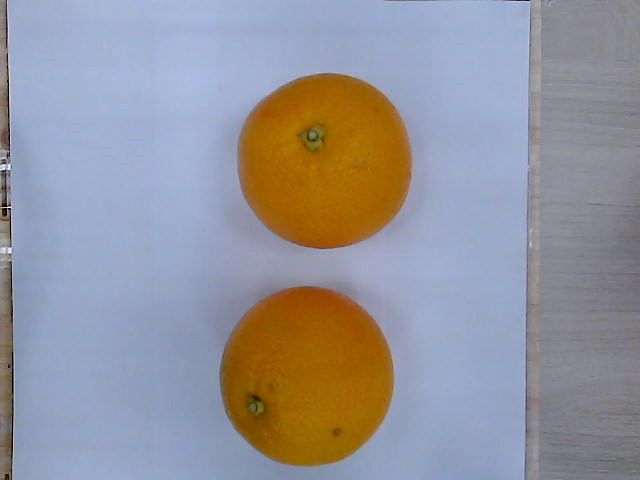fresh_orange: (219, 288, 396, 464), (238, 75, 415, 249)
